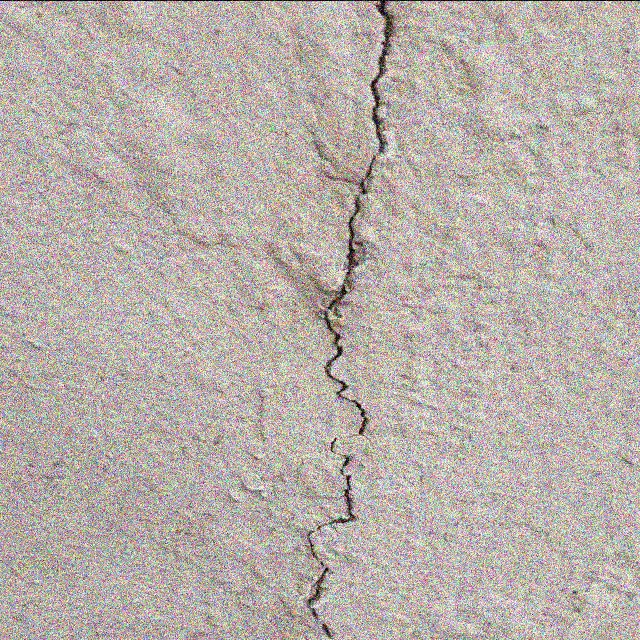SurfaceCrack: (261, 2, 427, 640)
